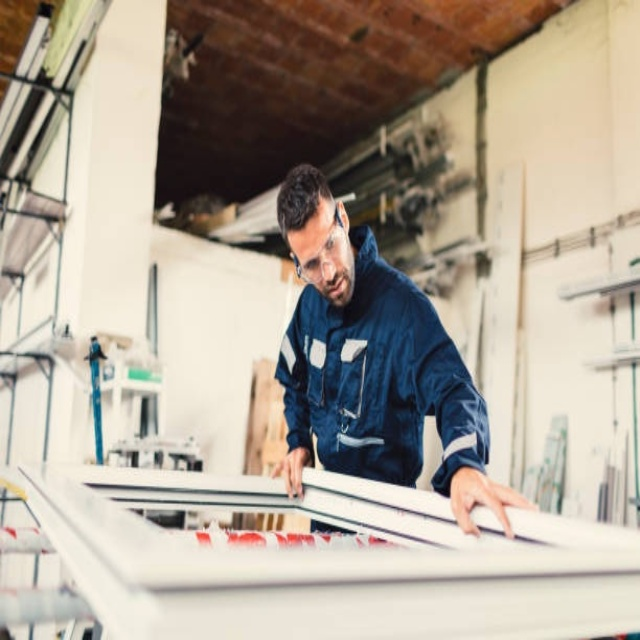Gafas: (294, 205, 345, 284)
Sin_guantes: (448, 455, 543, 546), (269, 445, 318, 502)
Sin_mascara: (324, 271, 351, 304)
